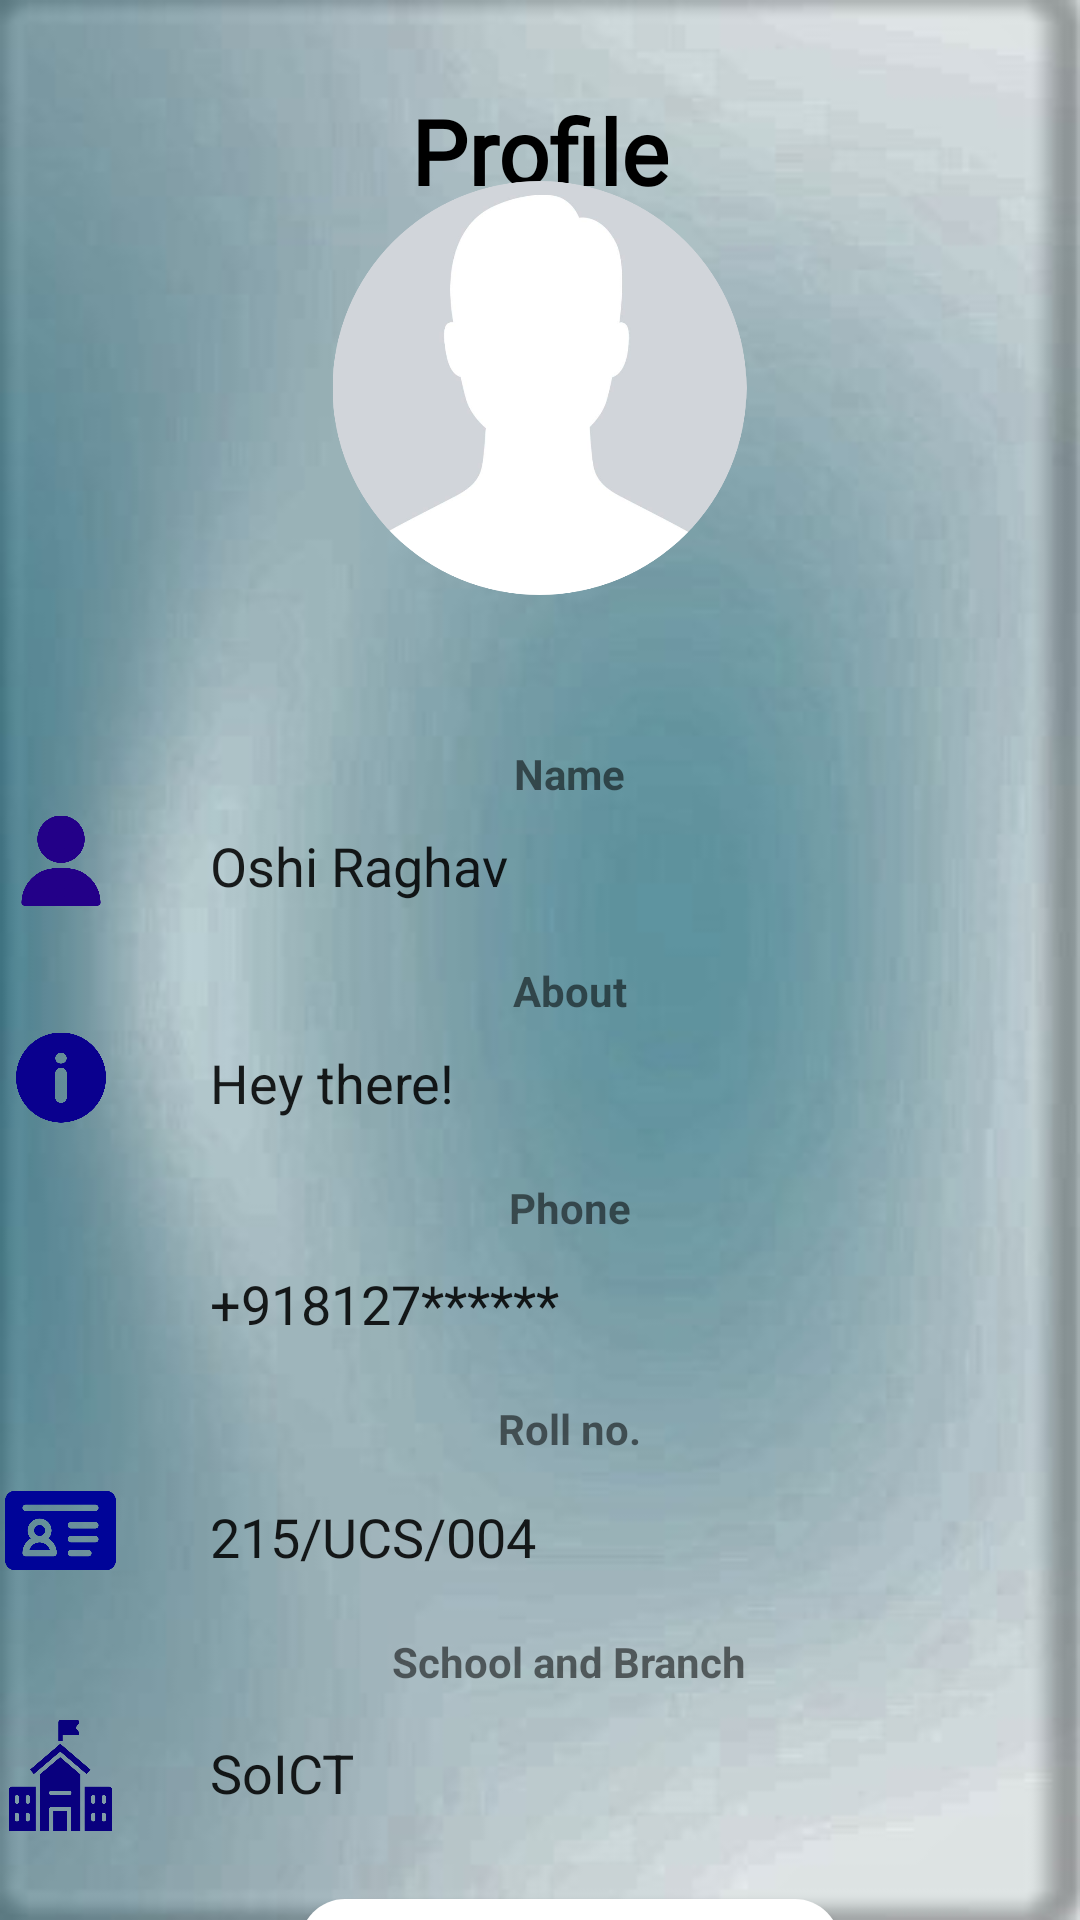

Icon click points for this 1080w x 1920h phone screenshot, format [x,y]:
driver license: [60,1530]
info: [61,1077]
schools: [60,1775]
user: [61,860]
